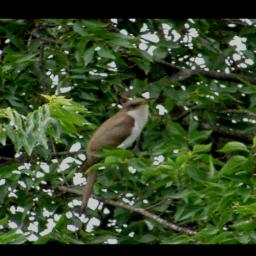Cuckoo: (73, 94, 161, 219)
